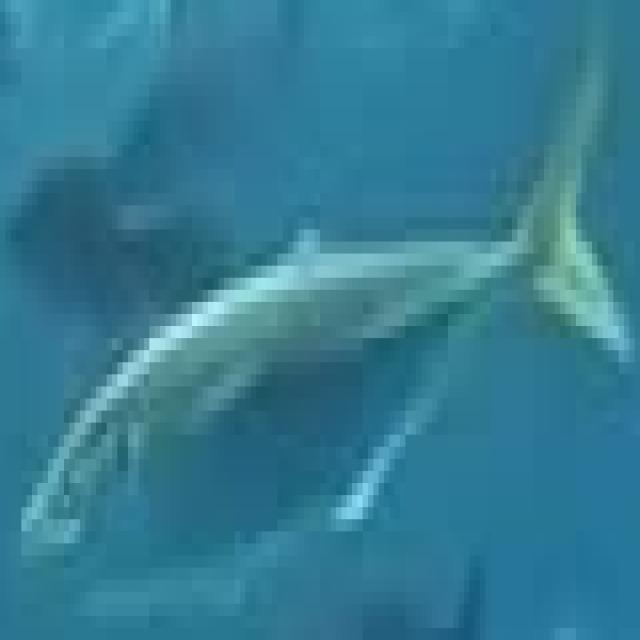fish: (0, 12, 635, 640)
